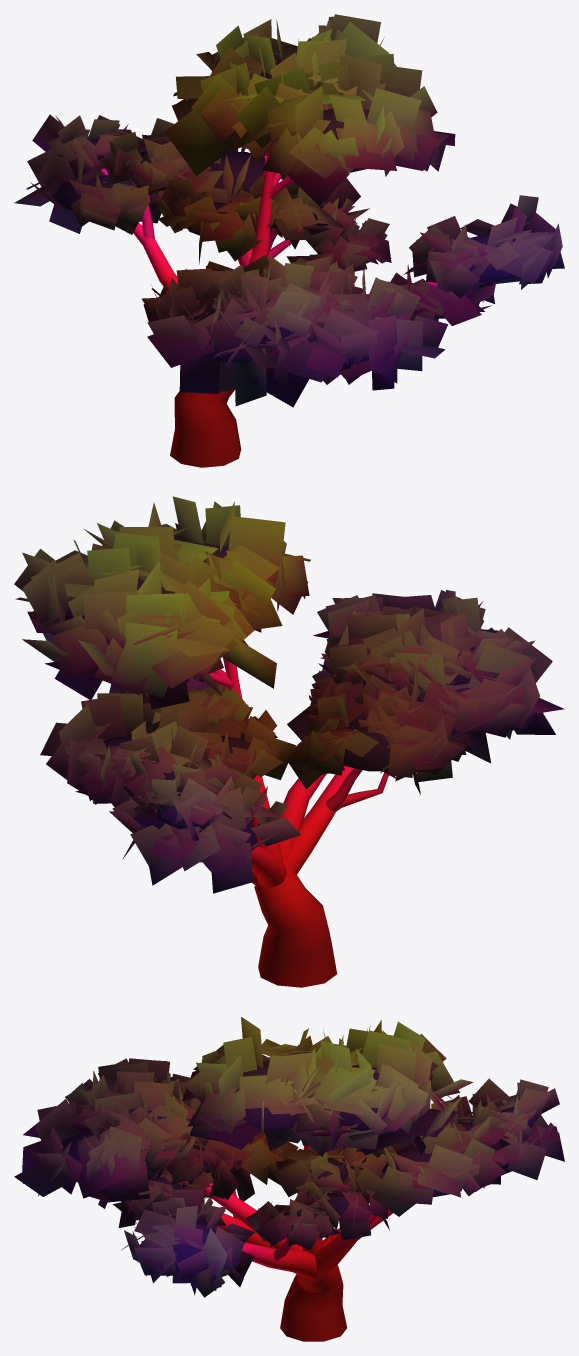
The model's file is Cypress_C.fbx.
3 views of the same model, one above another, from view 1: azimuth 30°, elevation 25°; view 2: azimuth 150°, elevation 25°; view 3: azimuth 270°, elevation 25° (orthographic). The views are drawn at different scales.
Parts seen in each view (by area): view 1: Cypress_C_LOD0; view 2: Cypress_C_LOD0; view 3: Cypress_C_LOD0.
Part boxes in pixels (x1=…): Cypress_C_LOD0: x1=14, y1=14, x2=564, y2=467; Cypress_C_LOD0: x1=14, y1=496, x2=564, y2=987; Cypress_C_LOD0: x1=14, y1=1017, x2=564, y2=1341.
Size of what is drawn, in the model's own units: 12.79 by 10.86 by 15.58.
